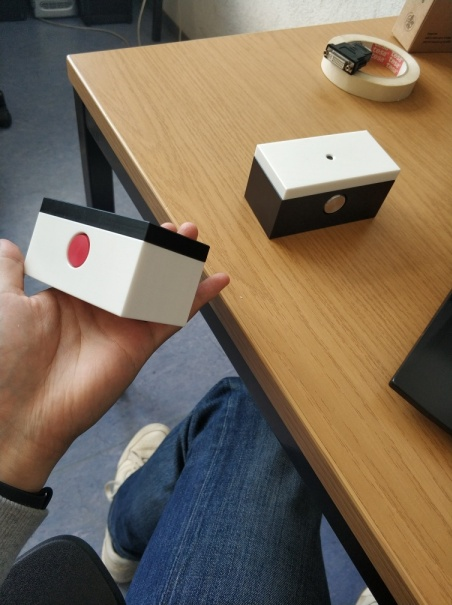black+white+red: (20, 196, 211, 332)
white+black+silver: (240, 128, 402, 242)
